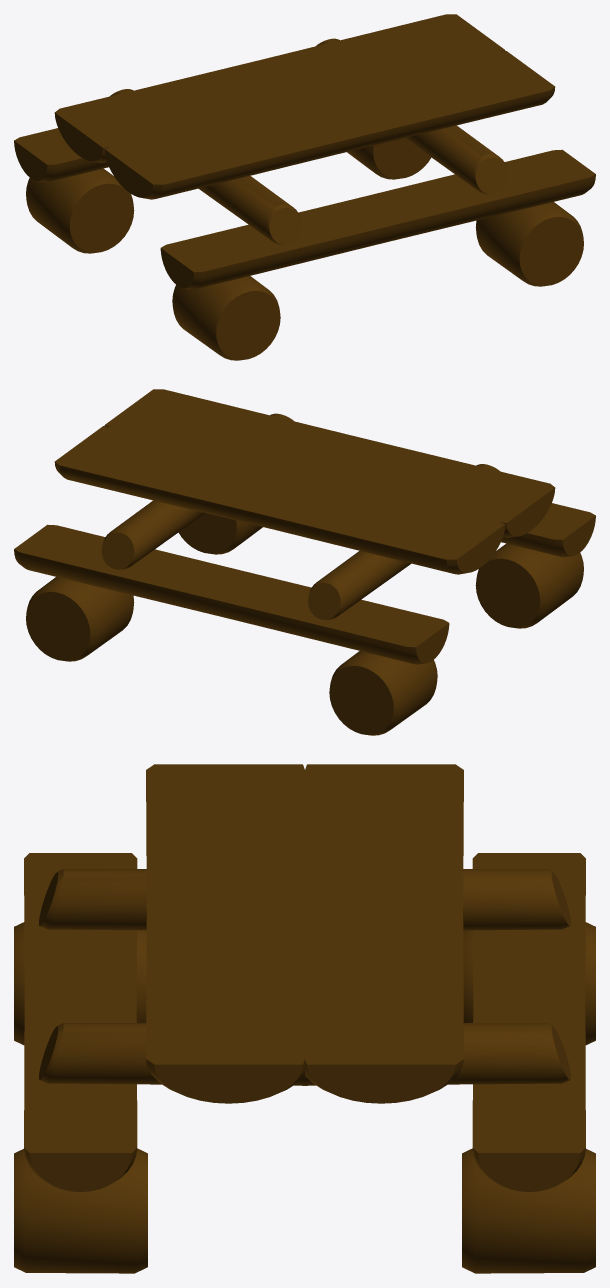
Rendered from Totem Card Table.fbx.
The picture shows the model from 3 angles, top to bottom: view 1: azimuth 30°, elevation 25°; view 2: azimuth 150°, elevation 25°; view 3: azimuth 270°, elevation 25°; orthographic projection. The views are drawn at different scales.
Visible parts, largest first — view 1: Bench; view 2: Bench; view 3: Bench.
Part boxes in pixels (x1,y1,x2,y2): Bench: [14, 14, 595, 360]; Bench: [14, 389, 595, 735]; Bench: [14, 764, 595, 1273].
Size of the model in its own units: 1060 by 395 by 869.
